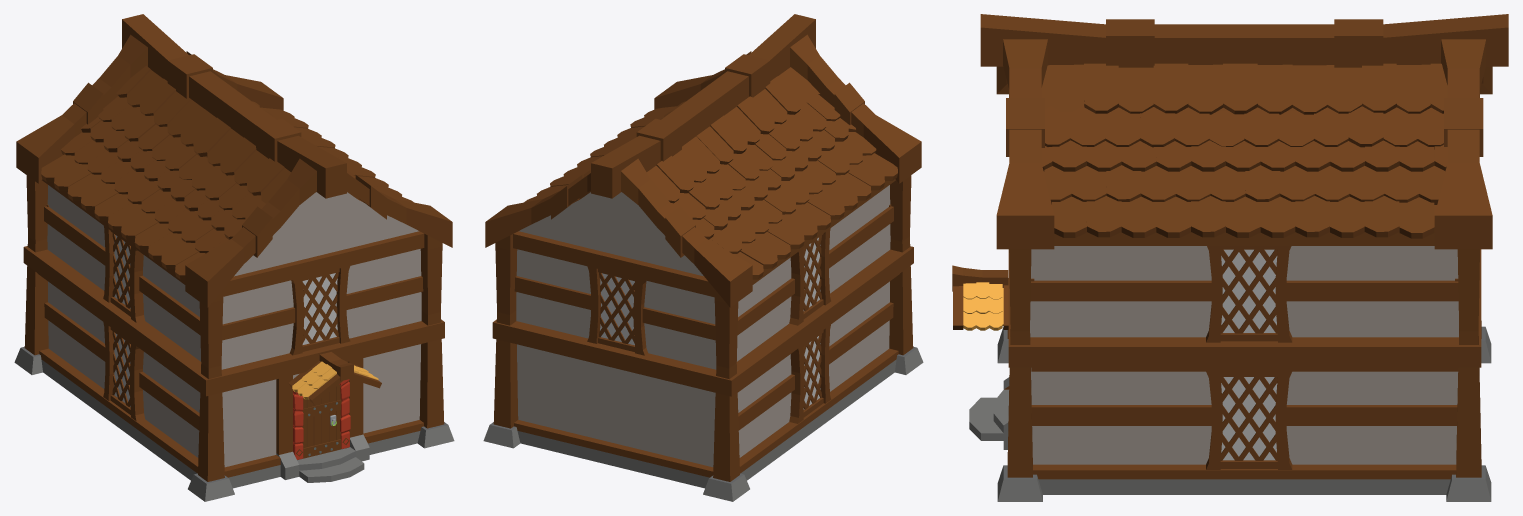
The model's file is SM_hous_01_A.gltf.
3 views of the same model, side by side, from view 1: azimuth 30°, elevation 25°; view 2: azimuth 150°, elevation 25°; view 3: azimuth 270°, elevation 25° (orthographic). The views are drawn at different scales.
Parts seen in each view (by area): view 1: SM_hous_01_A; view 2: SM_hous_01_A; view 3: SM_hous_01_A.
Part boxes in pixels (left/top/right/bottom): SM_hous_01_A: left=14, top=14, right=454, bottom=501; SM_hous_01_A: left=483, top=14, right=923, bottom=501; SM_hous_01_A: left=952, top=14, right=1508, bottom=501.
Size of the model in its own units: 6.02 by 7.14 by 8.94.
